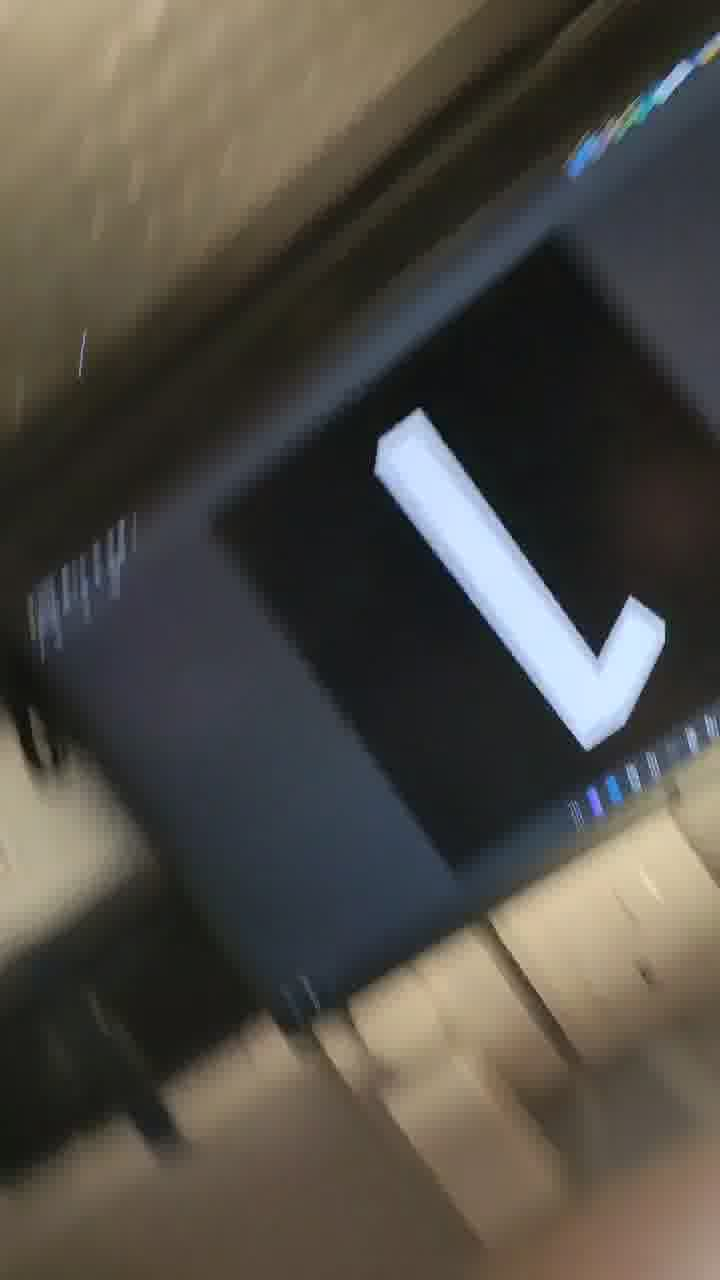one: (354, 357, 720, 802)
